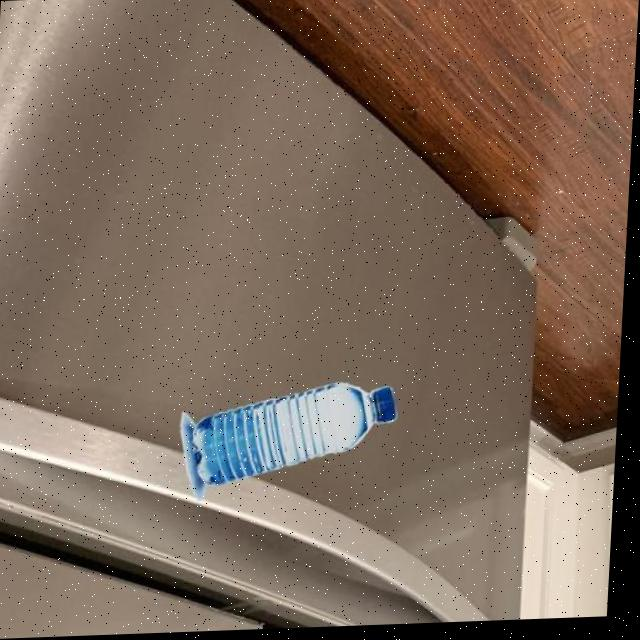bottle: (180, 380, 404, 503)
